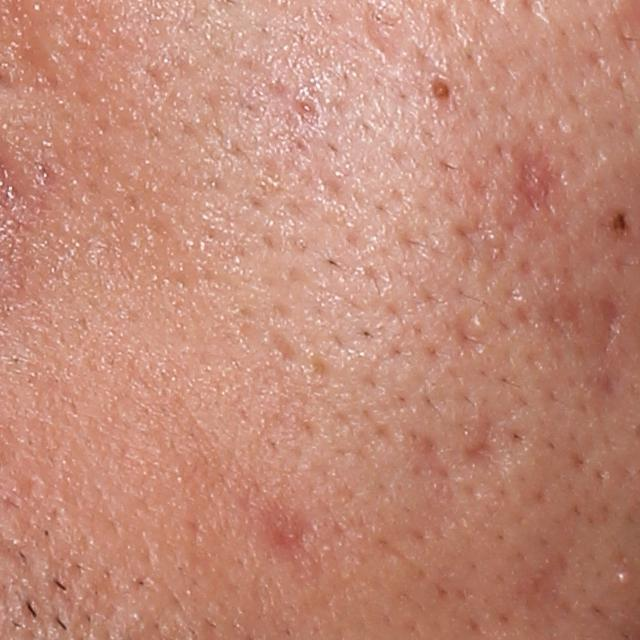atrophic_scar: (485, 133, 574, 228), (236, 53, 325, 129), (257, 501, 336, 580), (448, 215, 511, 288), (461, 408, 521, 475), (409, 428, 461, 499), (540, 290, 586, 340), (454, 308, 496, 358), (596, 294, 621, 351)
comedo: (617, 566, 635, 594)
nevus: (599, 206, 635, 238)
